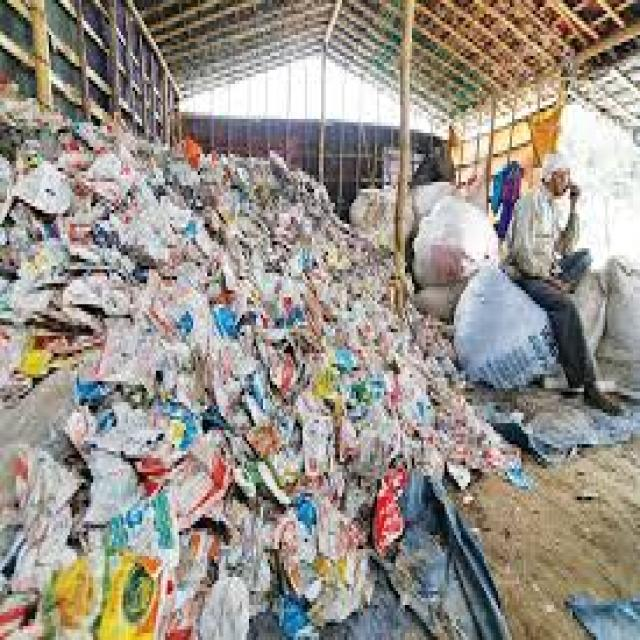heap: (15, 169, 378, 578)
